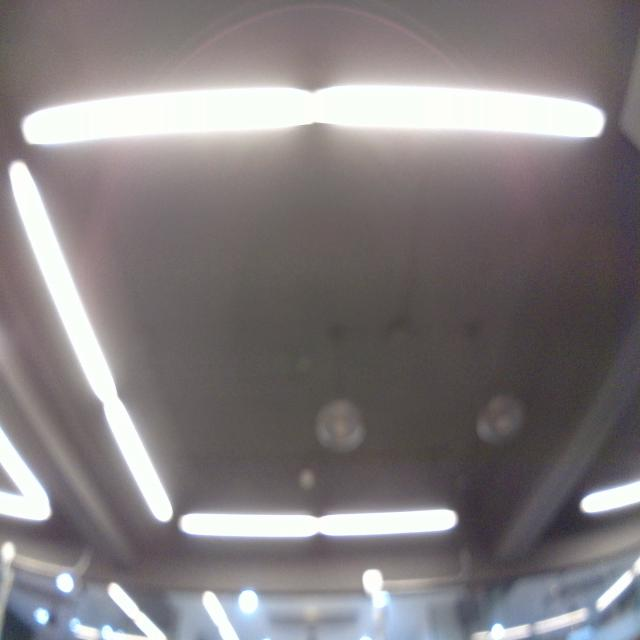lamp2_on: (5, 154, 179, 534), (13, 69, 612, 156), (178, 498, 466, 547)
